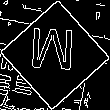M_S: (31, 29, 79, 81)
